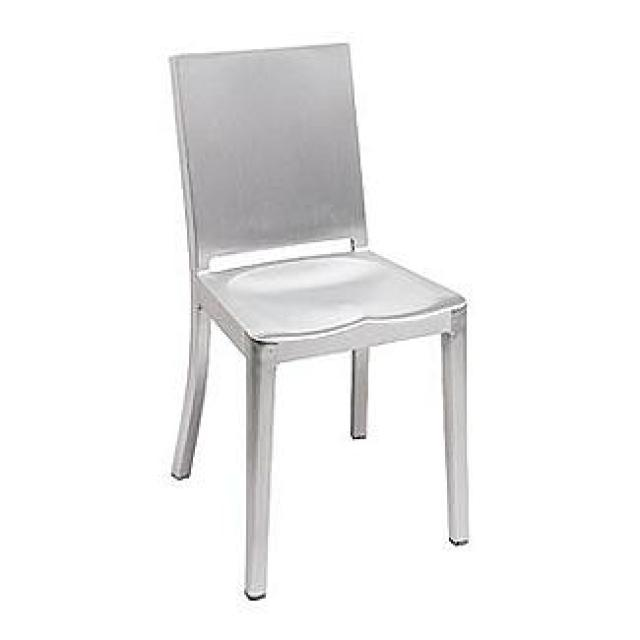chair: (166, 41, 470, 603)
